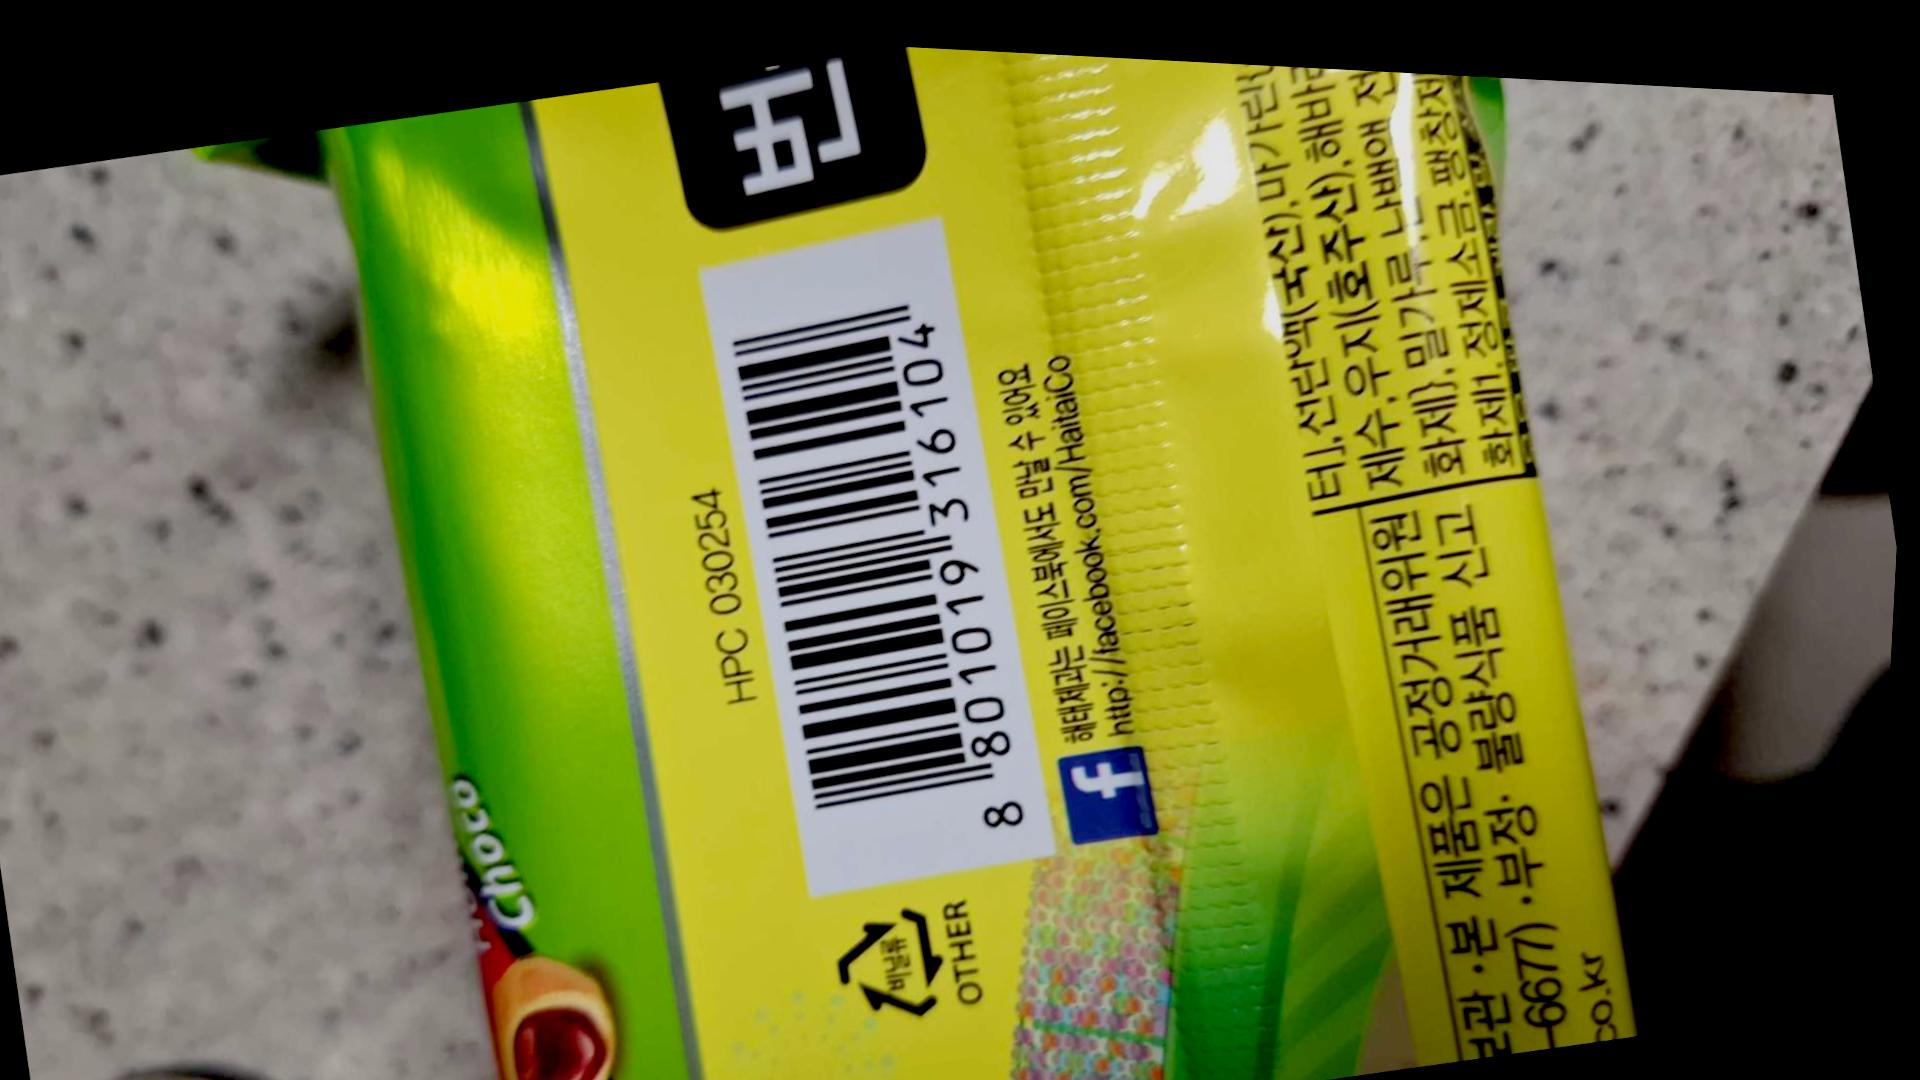cow-12000-2024-8-30: (716, 258, 1064, 864)
